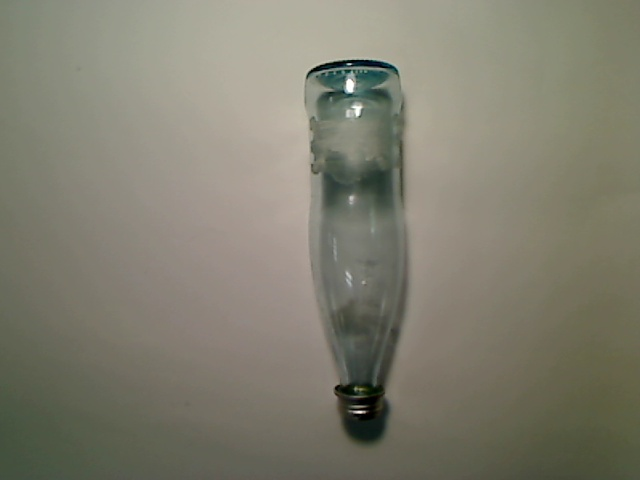bottle: (305, 58, 408, 422)
